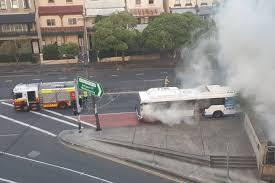smoke: (224, 6, 272, 101)
